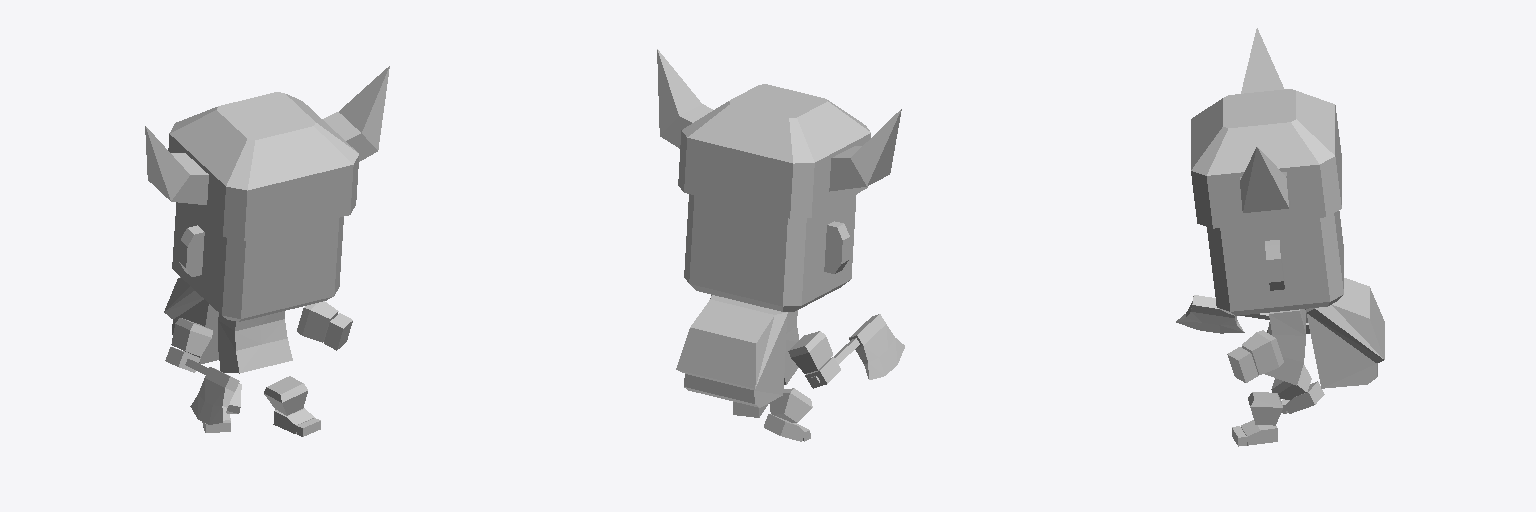
The model's file is mini_knight_000025.obj.
3 renders of one model, left to right at view 1: azimuth 30°, elevation 25°; view 2: azimuth 150°, elevation 25°; view 3: azimuth 270°, elevation 25°, orthographic.
Parts seen in each view (by area): view 1: cap_Object01_Material__3, Mesh_objheadusOBJexport_Material, back_Object03_Material__3, axe_Object02_Material__3; view 2: cap_Object01_Material__3, Mesh_objheadusOBJexport_Material, back_Object03_Material__3, axe_Object02_Material__3; view 3: cap_Object01_Material__3, Mesh_objheadusOBJexport_Material, back_Object03_Material__3, axe_Object02_Material__3.
Boxes of the visible parts, x1=… form: cap_Object01_Material__3: x1=145, y1=66, x2=389, y2=240; Mesh_objheadusOBJexport_Material: x1=165, y1=202, x2=352, y2=436; back_Object03_Material__3: x1=164, y1=277, x2=218, y2=363; axe_Object02_Material__3: x1=185, y1=358, x2=239, y2=424; cap_Object01_Material__3: x1=657, y1=49, x2=901, y2=218; Mesh_objheadusOBJexport_Material: x1=684, y1=194, x2=856, y2=441; back_Object03_Material__3: x1=676, y1=295, x2=787, y2=407; axe_Object02_Material__3: x1=811, y1=314, x2=904, y2=384; cap_Object01_Material__3: x1=1191, y1=28, x2=1341, y2=228; Mesh_objheadusOBJexport_Material: x1=1207, y1=211, x2=1343, y2=446; back_Object03_Material__3: x1=1306, y1=278, x2=1384, y2=388; axe_Object02_Material__3: x1=1176, y1=295, x2=1269, y2=333.
Bounding box in the file's own units: 1.94 × 2.56 × 1.44.